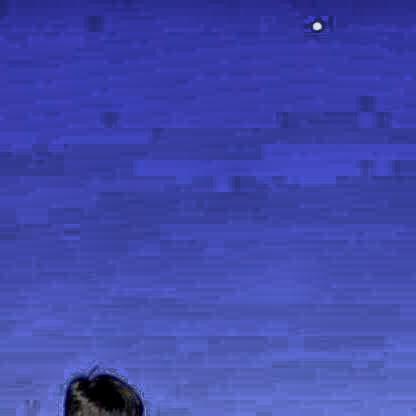golfball: (307, 17, 321, 31)
